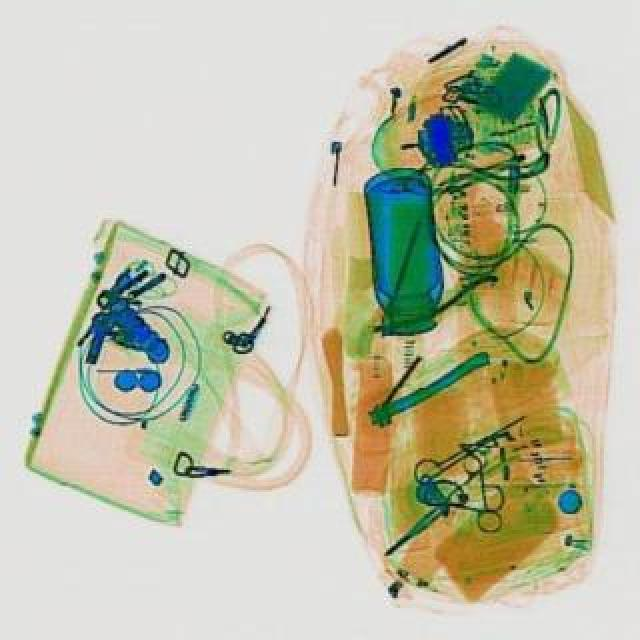pliers: (362, 442, 522, 580)
